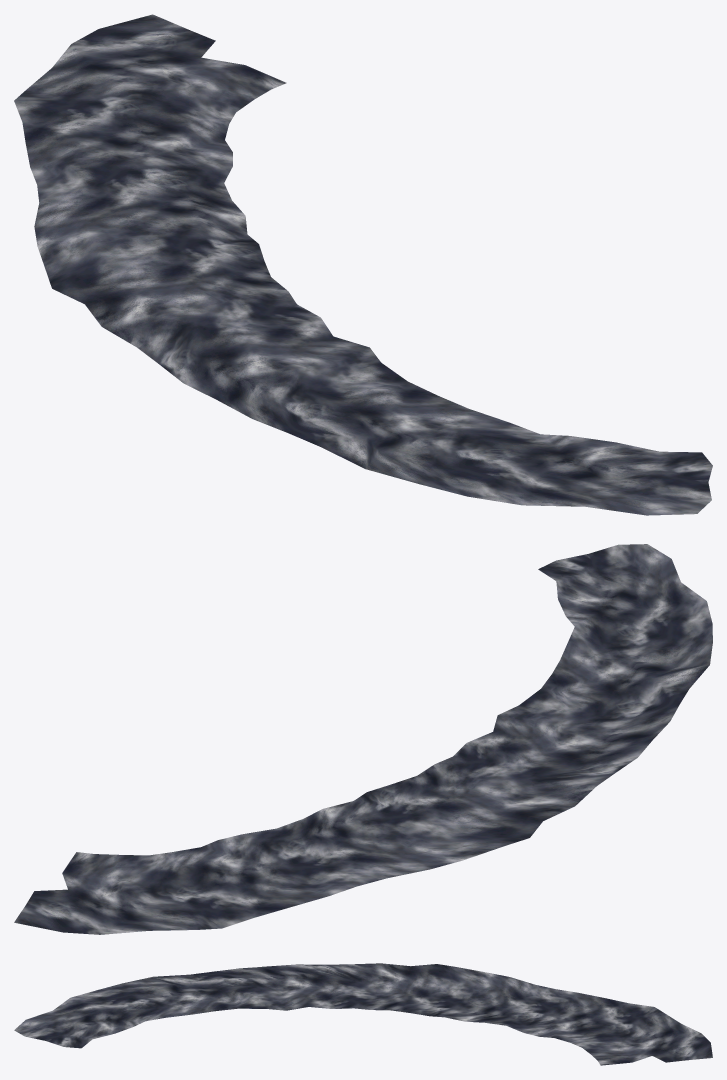
Rendered from MIRKWOOD_WATERB.fbx.
3 views of the same model, one above another, from view 1: azimuth 30°, elevation 25°; view 2: azimuth 150°, elevation 25°; view 3: azimuth 270°, elevation 25° (orthographic). The views are drawn at different scales.
Parts seen in each view (by area): view 1: MIRKWOOD_WATERB; view 2: MIRKWOOD_WATERB; view 3: MIRKWOOD_WATERB.
Part boxes in pixels (bbox=[...]): MIRKWOOD_WATERB: bbox=[14, 14, 712, 515]; MIRKWOOD_WATERB: bbox=[14, 544, 712, 934]; MIRKWOOD_WATERB: bbox=[14, 963, 712, 1065].
Size of the model in its own units: 280019 by 1160 by 808753.
Materials: 2 (2 with a texture image).
